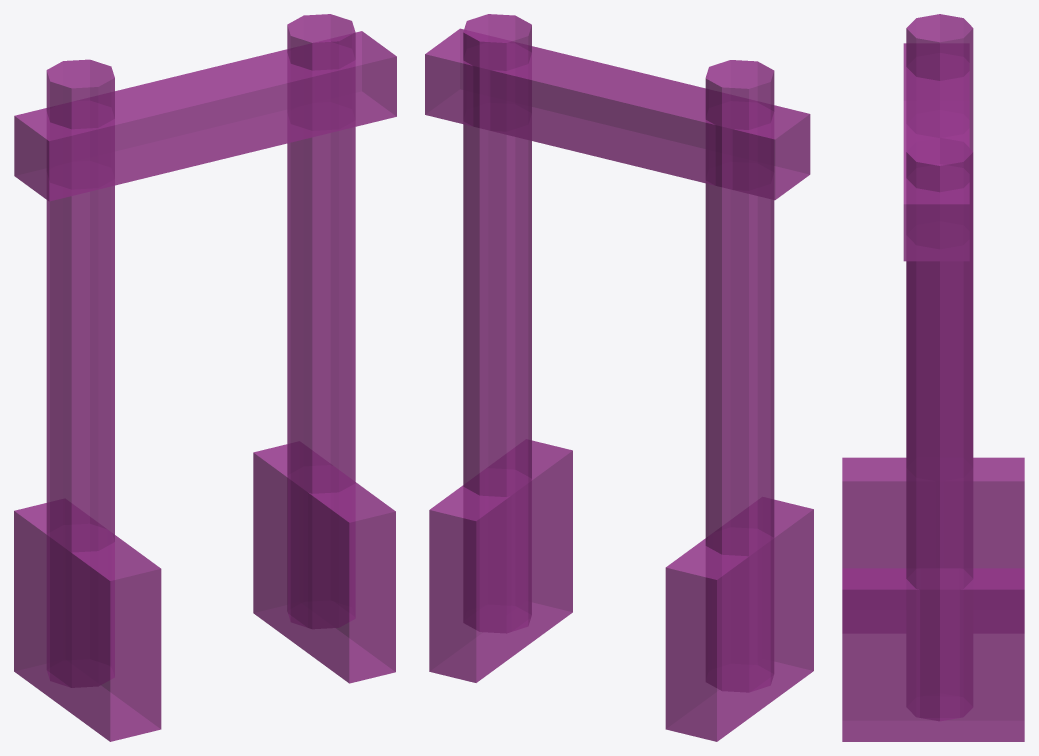
The model's file is SM_Prop_Fish_Crane_01_Collision.fbx.
3 renders of one model, left to right at view 1: azimuth 30°, elevation 25°; view 2: azimuth 150°, elevation 25°; view 3: azimuth 270°, elevation 25°, orthographic. The views are drawn at different scales.
Parts seen in each view (by area): view 1: SM_Prop_Fish_Crane_01_Collision; view 2: SM_Prop_Fish_Crane_01_Collision; view 3: SM_Prop_Fish_Crane_01_Collision.
Part boxes in pixels (left/top/right/bottom): SM_Prop_Fish_Crane_01_Collision: left=14, top=14, right=396, bottom=741; SM_Prop_Fish_Crane_01_Collision: left=425, top=14, right=813, bottom=741; SM_Prop_Fish_Crane_01_Collision: left=842, top=14, right=1024, bottom=741.
Bounding box in the file's own units: 354 × 609 × 170.
